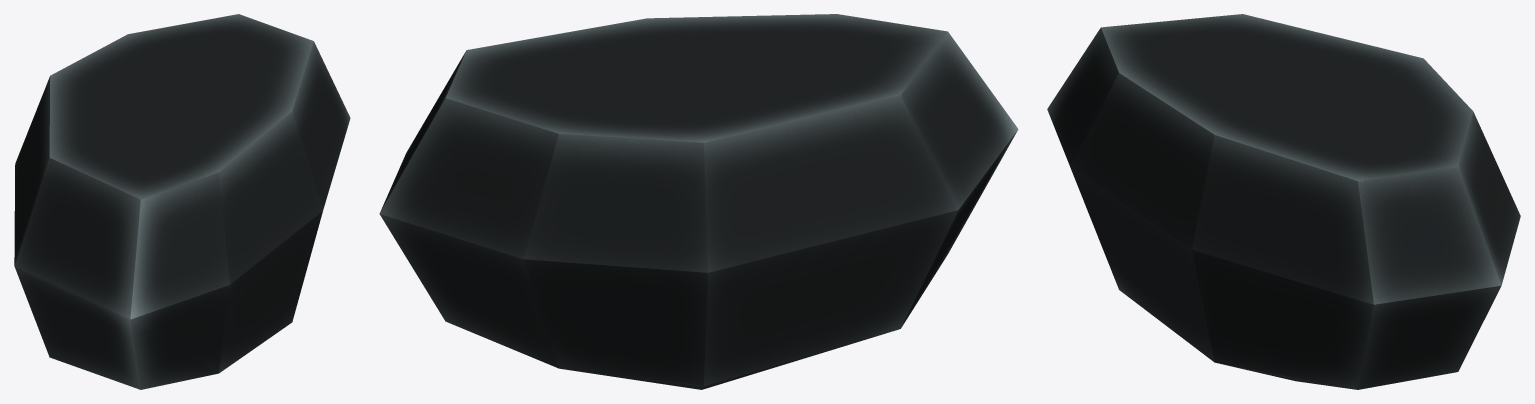
Rendered from Pedra_Comum.001.fbx.
3 views of the same model, side by side, from view 1: azimuth 30°, elevation 25°; view 2: azimuth 150°, elevation 25°; view 3: azimuth 270°, elevation 25° (orthographic). The views are drawn at different scales.
Parts seen in each view (by area): view 1: Pedra_Comum.001; view 2: Pedra_Comum.001; view 3: Pedra_Comum.001.
Boxes of the visible parts, x1,y1,x2,y2 form: Pedra_Comum.001: (14,14,350,389); Pedra_Comum.001: (379,14,1018,389); Pedra_Comum.001: (1047,14,1520,389).
Size of the model in its own units: 477 by 304 by 450.
